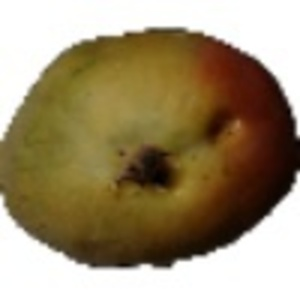mamão: (3, 20, 297, 277)
